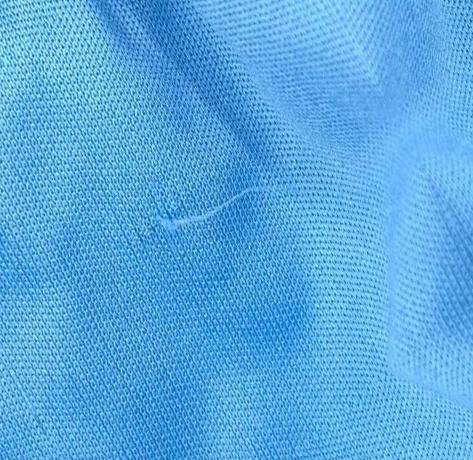snag: (141, 181, 274, 245)
